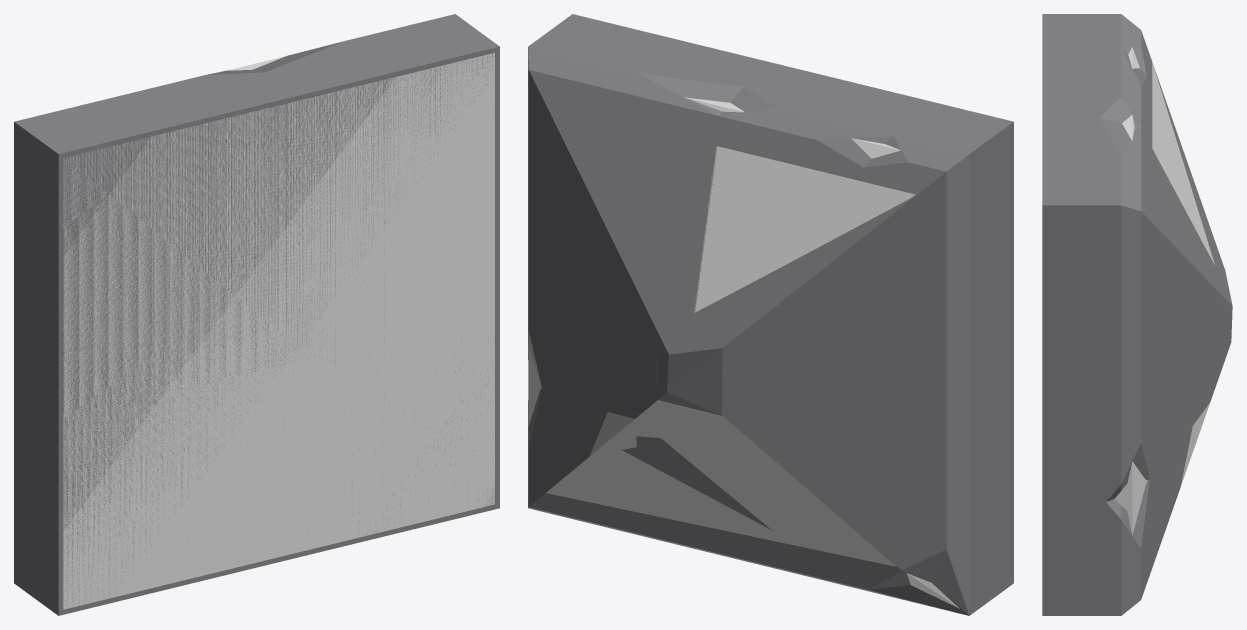
The model's file is SM_Prop_Wall_Panel_Small_01.fbx.
The picture shows the model from 3 angles, left to right: view 1: azimuth 30°, elevation 25°; view 2: azimuth 150°, elevation 25°; view 3: azimuth 270°, elevation 25°; orthographic projection. The views are drawn at different scales.
Parts seen in each view (by area): view 1: SM_Prop_Wall_Panel_Small_01_ConvexHulls, SM_Prop_Wall_Panel_Small_01_LOD0; view 2: SM_Prop_Wall_Panel_Small_01_LOD0, SM_Prop_Wall_Panel_Small_01_ConvexHulls; view 3: SM_Prop_Wall_Panel_Small_01_LOD0, SM_Prop_Wall_Panel_Small_01_ConvexHulls.
Part boxes in pixels (x1,y1,x2,y2): SM_Prop_Wall_Panel_Small_01_ConvexHulls: (63,53,494,609); SM_Prop_Wall_Panel_Small_01_LOD0: (14,14,499,615); SM_Prop_Wall_Panel_Small_01_LOD0: (528,14,1013,615); SM_Prop_Wall_Panel_Small_01_ConvexHulls: (528,97,959,608); SM_Prop_Wall_Panel_Small_01_LOD0: (1042,14,1232,615); SM_Prop_Wall_Panel_Small_01_ConvexHulls: (1115,47,1214,534).
Bounding box in the file's own units: 21.02 × 50.04 × 50.04.
Materials: 1 (1 with a texture image).
